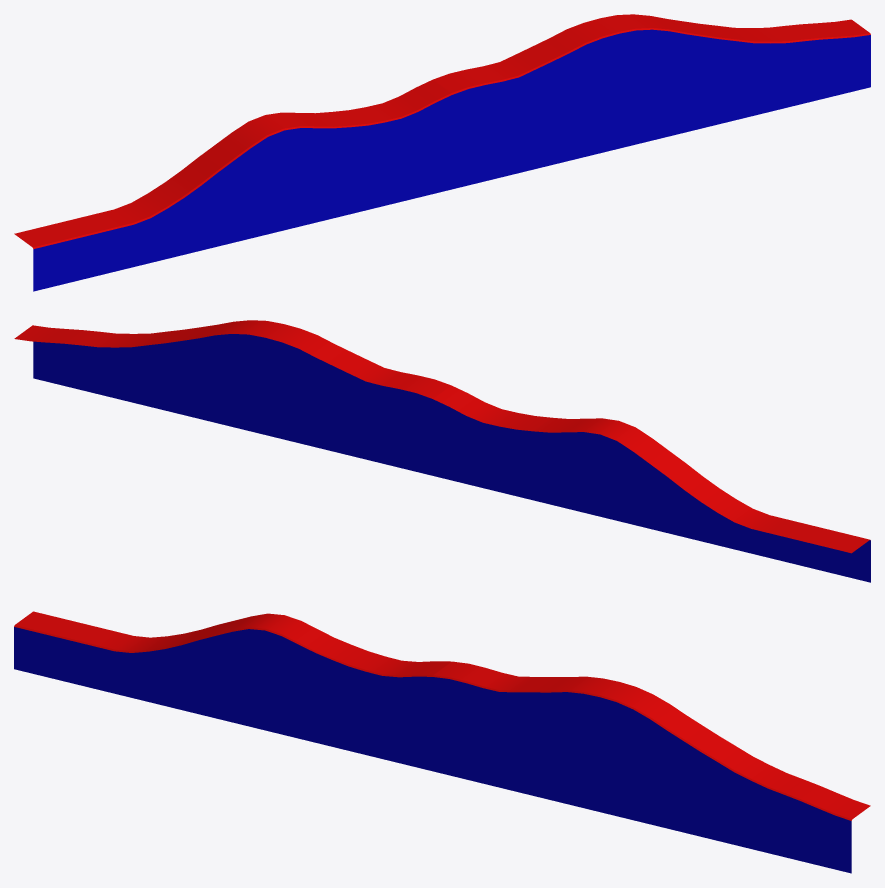
File: piece 2 Air.fbx
3 renders of one model, top to bottom at view 1: azimuth 30°, elevation 25°; view 2: azimuth 150°, elevation 25°; view 3: azimuth 330°, elevation 25°, orthographic.
Visible parts, largest first — view 1: Piece_2; view 2: Piece_2; view 3: Piece_2.
Part boxes in pixels (x1,y1,x2,y2): Piece_2: [14, 14, 870, 291]; Piece_2: [14, 320, 870, 582]; Piece_2: [14, 611, 870, 873].
Bounding box in the file's own units: 50 × 6.63 × 2.
